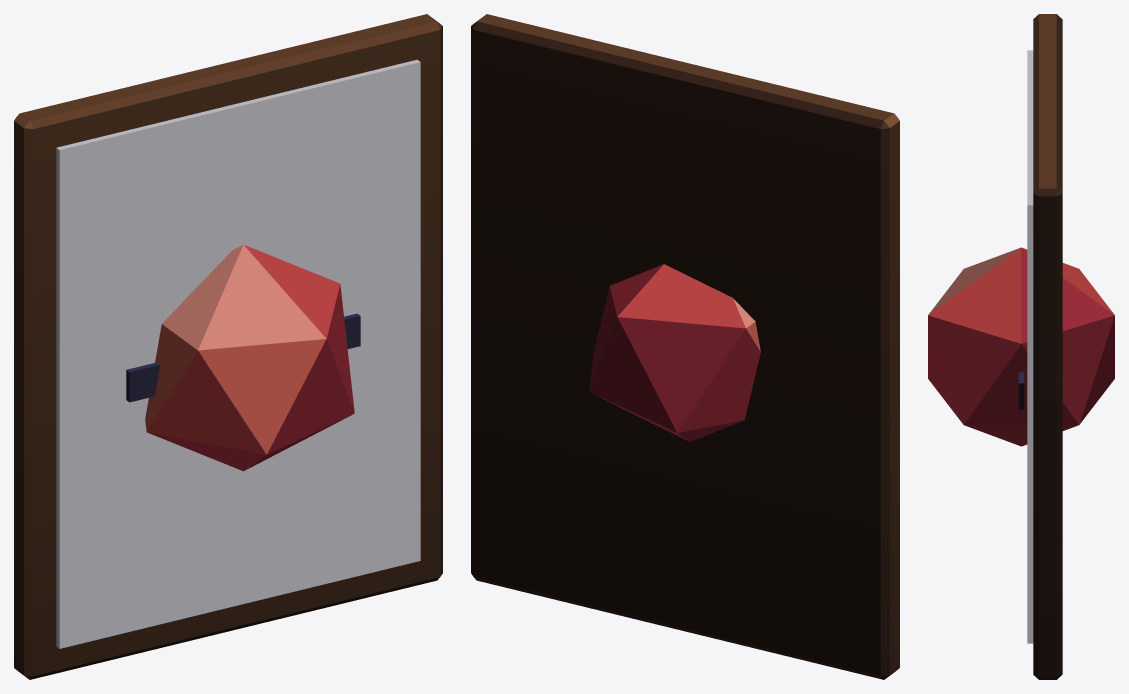
File: poster_ball.glb
3 views of the same model, side by side, from view 1: azimuth 30°, elevation 25°; view 2: azimuth 150°, elevation 25°; view 3: azimuth 270°, elevation 25° (orthographic). The views are drawn at different scales.
Parts seen in each view (by area): view 1: poster_ball; view 2: poster_ball; view 3: poster_ball.
Boxes of the visible parts, x1,y1,x2,y2 form: poster_ball: (14, 14, 442, 679); poster_ball: (471, 14, 899, 679); poster_ball: (928, 14, 1114, 679).
Size of the model in its own units: 0.58 by 0.74 by 0.2552.
